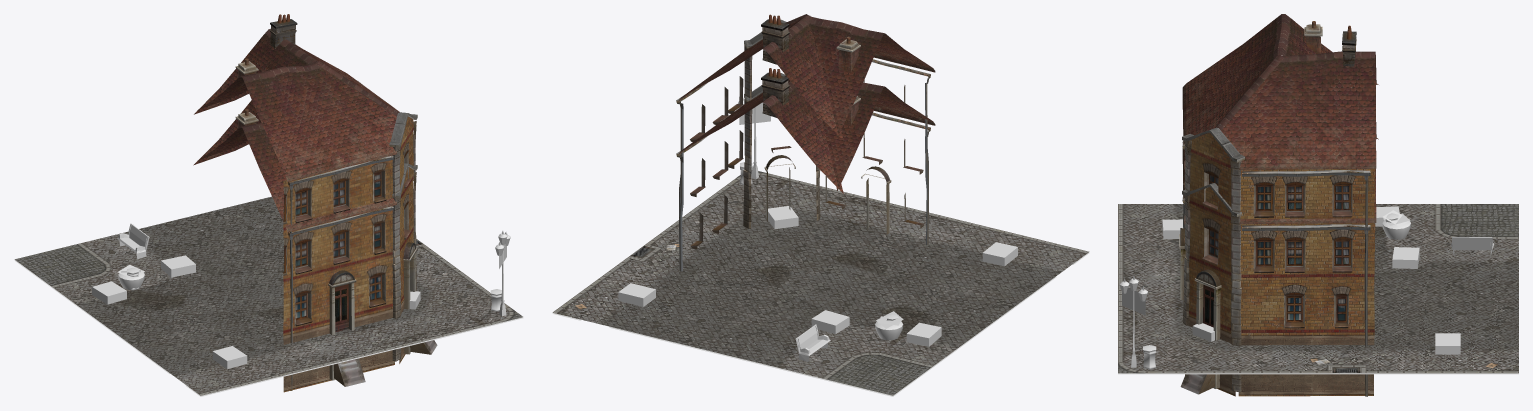
File: workers_corner_alt.gltf
3 views of the same model, side by side, from view 1: azimuth 30°, elevation 25°; view 2: azimuth 150°, elevation 25°; view 3: azimuth 270°, elevation 25° (orthographic). The views are drawn at different scales.
Parts seen in each view (by area): view 1: ground, _3f_lod0, _2f_lod0, prop_bench1, fc_feedback_door_3, fc_feedback_door_0, fc_feedback_door_4, FeedbackBlocker.002, prop_lightpost1, prop_flowerpot; view 2: ground, _3f_lod0, _2f_lod0, prop_bench1, fc_feedback_door_2, fc_feedback_door_0, fc_feedback_door_4, fc_feedback_door_3, fc_feedback_door_1, prop_flowerpot, UnevenBlocker, file_lightpost1; view 3: ground, _3f_lod0, _2f_lod0, prop_lightpost1, FeedbackBlocker, prop_bench1, prop_flowerpot, fc_feedback_door_0, fc_feedback_door_2, fc_feedback_door_3.
Part boxes in pixels (bbox=[...]): ground: bbox=[14, 196, 522, 395]; _3f_lod0: bbox=[194, 14, 417, 291]; _2f_lod0: bbox=[193, 100, 437, 392]; prop_bench1: bbox=[117, 223, 149, 259]; fc_feedback_door_3: bbox=[212, 346, 247, 368]; fc_feedback_door_0: bbox=[161, 255, 195, 277]; fc_feedback_door_4: bbox=[92, 281, 126, 304]; FeedbackBlocker.002: bbox=[185, 324, 496, 396]; prop_lightpost1: bbox=[495, 231, 510, 316]; prop_flowerpot: bbox=[117, 264, 144, 289]; ground: bbox=[552, 170, 1089, 395]; _3f_lod0: bbox=[676, 14, 935, 271]; _2f_lod0: bbox=[676, 68, 935, 271]; prop_bench1: bbox=[795, 324, 830, 361]; fc_feedback_door_2: bbox=[618, 283, 655, 306]; fc_feedback_door_0: bbox=[811, 310, 849, 334]; fc_feedback_door_4: bbox=[906, 322, 941, 346]; fc_feedback_door_3: bbox=[982, 242, 1017, 266]; fc_feedback_door_1: bbox=[766, 206, 798, 228]; prop_flowerpot: bbox=[875, 311, 903, 340]; UnevenBlocker: bbox=[609, 277, 1056, 396]; file_lightpost1: bbox=[738, 89, 770, 179]; ground: bbox=[1118, 204, 1518, 373]; _3f_lod0: bbox=[1182, 14, 1378, 383]; _2f_lod0: bbox=[1179, 122, 1378, 396]; prop_lightpost1: bbox=[1119, 276, 1146, 367]; FeedbackBlocker: bbox=[1118, 373, 1518, 374]; prop_bench1: bbox=[1451, 237, 1494, 257]; prop_flowerpot: bbox=[1382, 210, 1410, 239]; fc_feedback_door_0: bbox=[1392, 247, 1419, 268]; fc_feedback_door_2: bbox=[1435, 333, 1460, 354]; fc_feedback_door_3: bbox=[1162, 219, 1182, 239].
Size of what is drawn, in the model's own units: 3 by 2.72 by 3.
3 materials, 3 textured.
